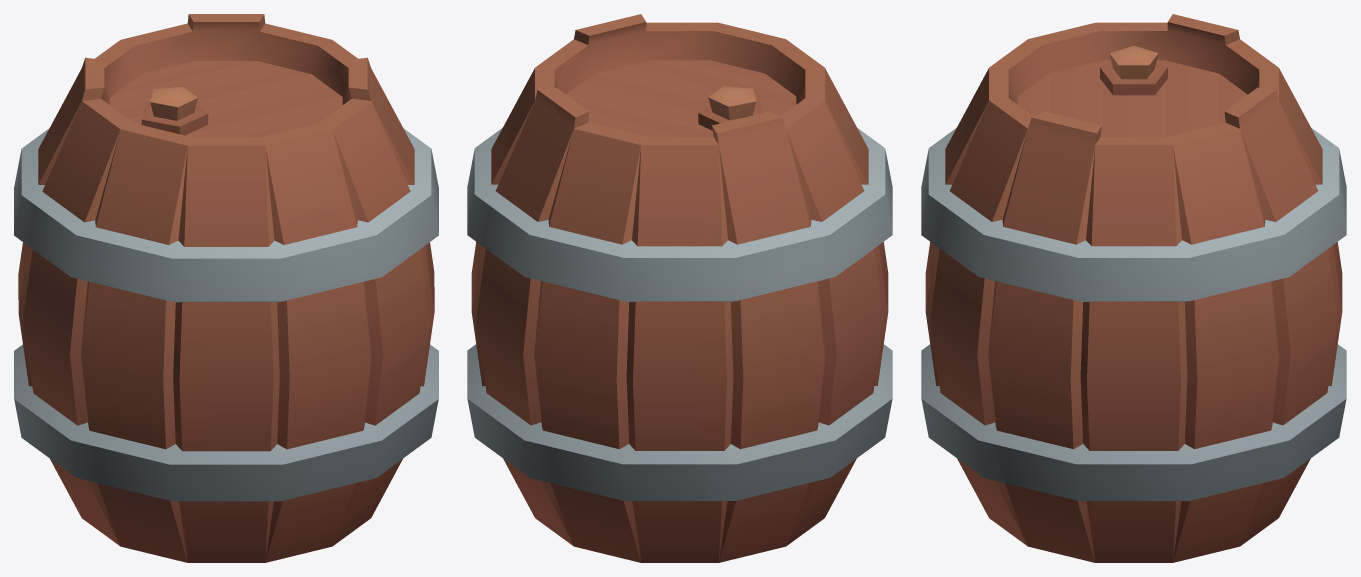
The model's file is barrel_large.glb.
3 renders of one model, left to right at view 1: azimuth 30°, elevation 25°; view 2: azimuth 150°, elevation 25°; view 3: azimuth 270°, elevation 25°, orthographic.
Parts seen in each view (by area): view 1: barrel_large; view 2: barrel_large; view 3: barrel_large.
Part boxes in pixels (<box>): barrel_large: <box>14,14,438,562</box>; barrel_large: <box>467,14,892,562</box>; barrel_large: <box>921,14,1346,562</box>.
Bounding box in the file's own units: 1.8 × 2 × 1.8.
1 material, 1 textured.
